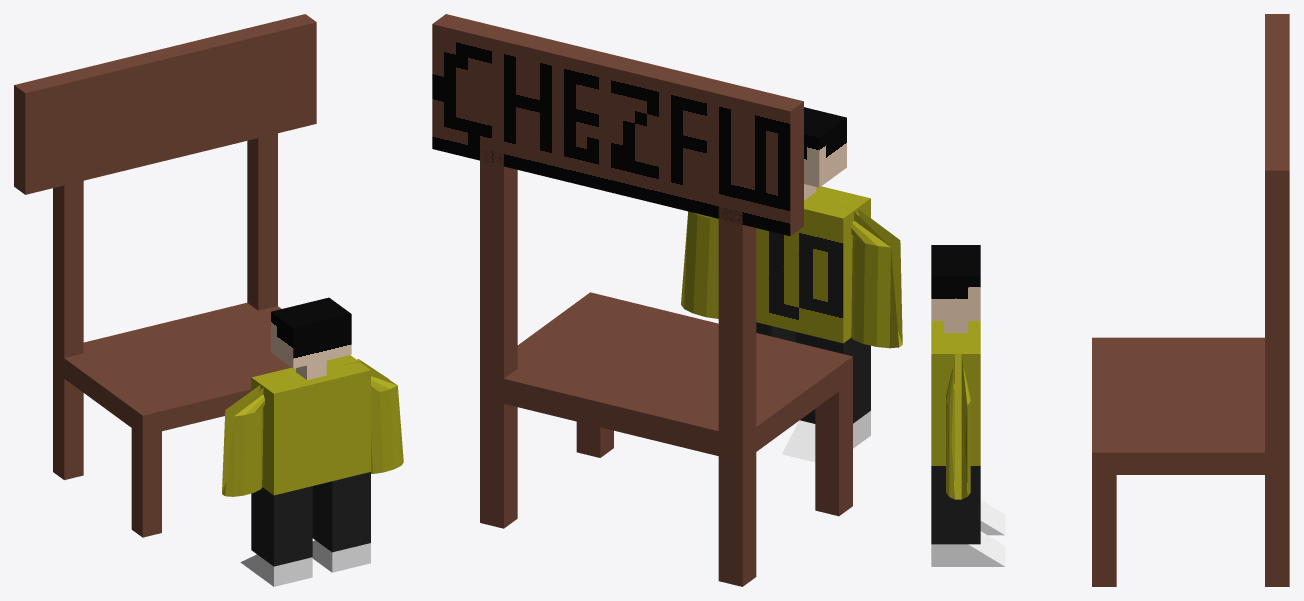
File: pas flo 3D.gltf
The picture shows the model from 3 angles, left to right: view 1: azimuth 30°, elevation 25°; view 2: azimuth 150°, elevation 25°; view 3: azimuth 270°, elevation 25°; orthographic projection. The views are drawn at different scales.
Parts seen in each view (by area): view 1: table, torse, cylinder (×2), tete, group2, group, cube (×2); view 2: table, torse, cylinder (×2), tete, group2, cube; view 3: table, torse, tete, cylinder, group, cube (×2).
Boxes of the visible parts, left/top/right/bottom form: table: left=14, top=14, right=316, bottom=537; torse: left=251, top=355, right=370, bottom=495; cylinder (×2): left=222, top=359, right=403, bottom=496; tete: left=271, top=297, right=351, bottom=368; group2: left=251, top=486, right=312, bottom=566; group: left=312, top=472, right=370, bottom=552; cube (×2): left=240, top=540, right=370, bottom=586; table: left=432, top=14, right=852, bottom=586; torse: left=756, top=186, right=870, bottom=343; cylinder (×2): left=681, top=204, right=902, bottom=348; tete: left=804, top=107, right=846, bottom=187; group2: left=795, top=332, right=870, bottom=423; cube: left=782, top=411, right=870, bottom=462; table: left=1092, top=14, right=1289, bottom=586; torse: left=931, top=321, right=980, bottom=465; tete: left=931, top=245, right=980, bottom=320; cylinder: left=946, top=344, right=970, bottom=499; group: left=931, top=466, right=980, bottom=544; cube (×2): left=931, top=500, right=1005, bottom=566.
Size of the model in its own units: 1.88 by 2.5 by 1.81.
14 materials, 13 textured.
